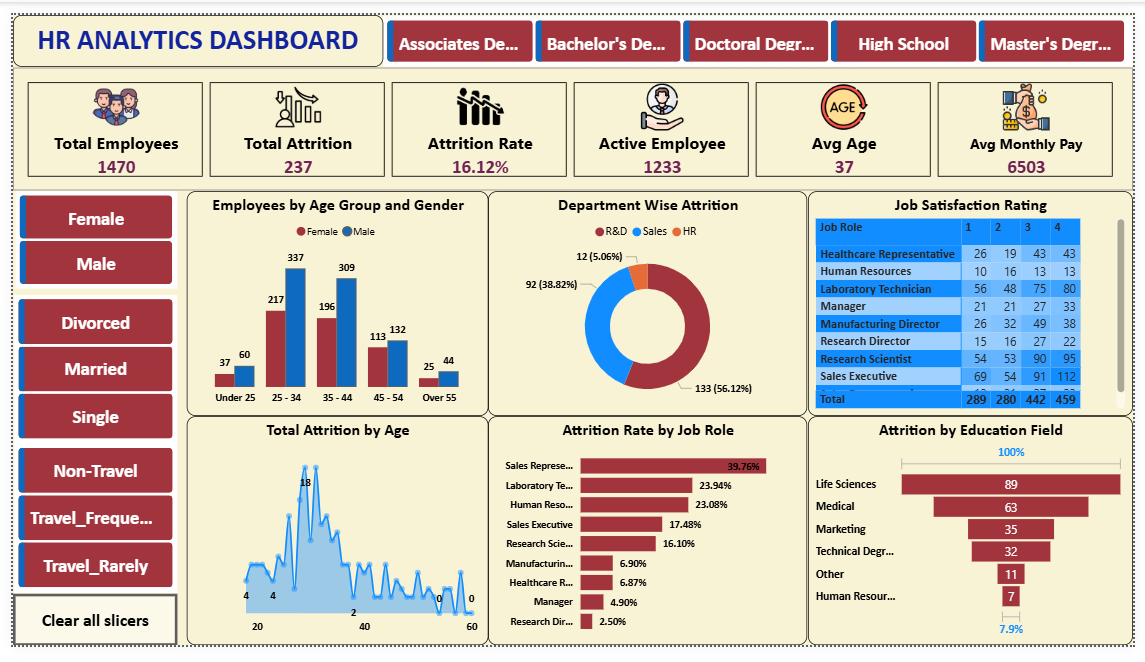

This screenshot's page, from the dashboard's own definition file:
{"tool":"powerbi","page":{"name":"Dashboard","canvas":[1280,720],"ordinal":0},"visuals":[{"type":"cardVisual","fields":{"Data":["HR data.Total Employees","HR data.Total Attrition","HR data.Attrition Rate","HR data.Active Employee","Avg(HR data.Age)","Avg(HR data.Monthly Income)"]},"box":[0,59.5,1279.7,142.5],"z":0},{"type":"clusteredColumnChart","title":"Employees by Age Group and Gender","fields":{"Category":["HR data.Age Group"],"Series":["HR data.Gender"],"Y":["HR data.Total Employees"]},"box":[198.9,202.1,344.6,256.9],"z":1000},{"type":"areaChart","fields":{"Category":["HR data.Age"],"Y":["HR data.Total Attrition"]},"box":[198.9,458.9,344.6,261.6],"z":2000},{"type":"donutChart","title":"Department Wise Attrition","fields":{"Category":["HR data.Department"],"Y":["HR data.Total Attrition"]},"box":[543.5,202.1,365,256.9],"z":3000},{"type":"clusteredBarChart","fields":{"Category":["HR data.Job Role"],"Y":["HR data.Attrition Rate"]},"box":[543.5,458.9,365,261.6],"z":4000},{"type":"pivotTable","title":"Job Satisfaction Rating","fields":{"Columns":["HR data.Job Satisfaction"],"Rows":["HR data.Job Role"],"Values":["HR data.Total Employees"]},"box":[908.5,202.1,371.2,256.9],"z":5000},{"type":"funnel","title":"Attrition by Education Field","fields":{"Category":["HR data.Education Field"],"Y":["HR data.Total Attrition"]},"box":[908.5,458.9,371.2,261.6],"z":6000},{"type":"advancedSlicerVisual","fields":{"Values":["HR data.Gender"]},"box":[3.1,202.1,184.8,111.2],"z":7000},{"type":"advancedSlicerVisual","fields":{"Values":["HR data.Marital Status"]},"box":[1.6,319.5,186.4,170.7],"z":8000},{"type":"advancedSlicerVisual","fields":{"Values":["HR data.Education"]},"box":[422.9,1.6,856.8,58],"z":8001},{"type":"advancedSlicerVisual","fields":{"Values":["HR data.Business Travel"]},"box":[1.6,490.3,186.4,170.7],"z":8002},{"type":"actionButton","box":[0,661,188,59.5],"z":8003},{"type":"textbox","box":[0,0,422.9,59.5],"z":8004}]}

Visuals, with their boxes in screenshot pixels (x1, y1, x2, y2), scaled from the page's 1280x720 canvas onto the 1145x662 screenshot:
cardVisual - HR data.Total Employees x HR data.Total Attrition: l=0, t=55, r=1144, b=186
"Employees by Age Group and Gender" clusteredColumnChart: l=178, t=186, r=486, b=422
areaChart - HR data.Age x HR data.Total Attrition: l=178, t=422, r=486, b=661
"Department Wise Attrition" donutChart: l=486, t=186, r=813, b=422
clusteredBarChart - HR data.Job Role x HR data.Attrition Rate: l=486, t=422, r=813, b=661
"Job Satisfaction Rating" pivotTable: l=813, t=186, r=1144, b=422
"Attrition by Education Field" funnel: l=813, t=422, r=1144, b=661
advancedSlicerVisual - HR data.Gender: l=3, t=186, r=168, b=288
advancedSlicerVisual - HR data.Marital Status: l=1, t=294, r=168, b=451
advancedSlicerVisual - HR data.Education: l=378, t=1, r=1144, b=55
advancedSlicerVisual - HR data.Business Travel: l=1, t=451, r=168, b=608
actionButton: l=0, t=608, r=168, b=661
textbox: l=0, t=0, r=378, b=55
